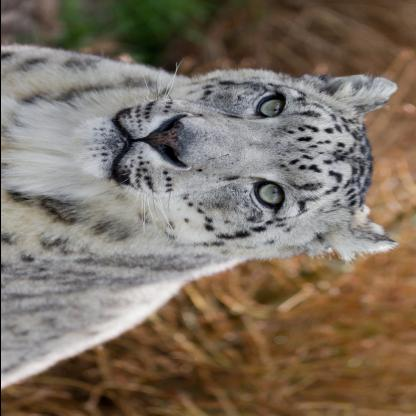leopard: (71, 68, 400, 258)
